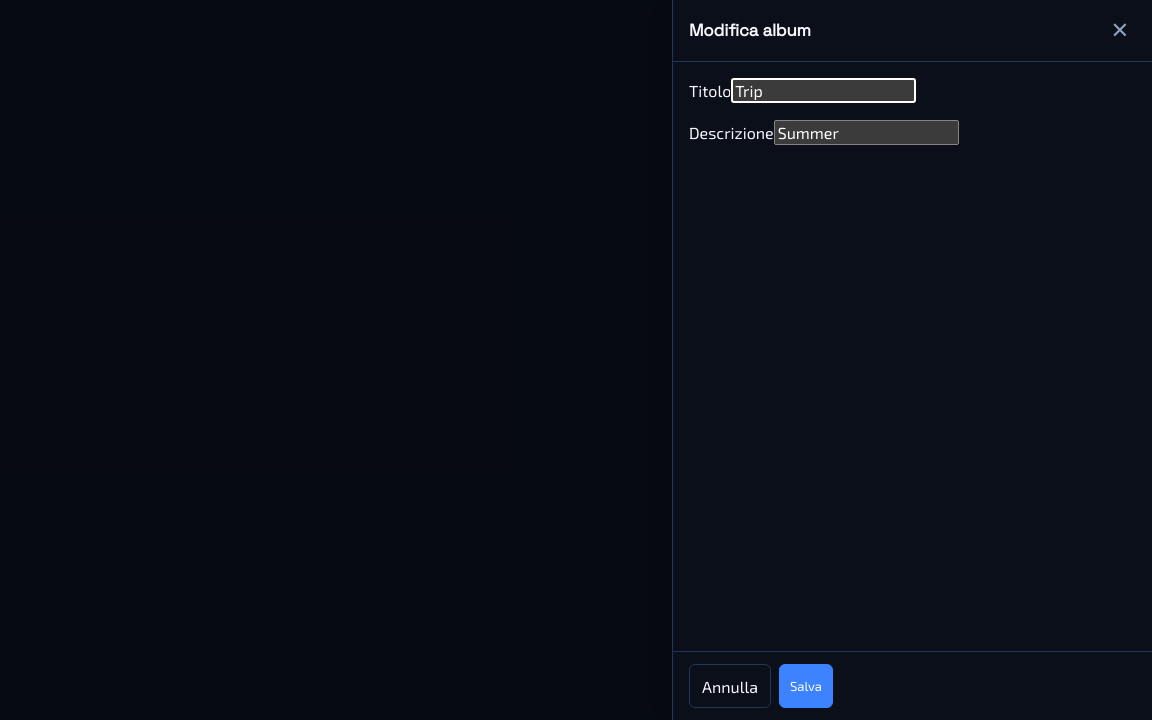
Test case: AlbumDetailsEditor › on 409 explains, shows the current values, keeps the draft, and does not resend
Replace the text in the field with test id "album-edit-name" with "My title" at (824, 90), box [731,78,916,103]
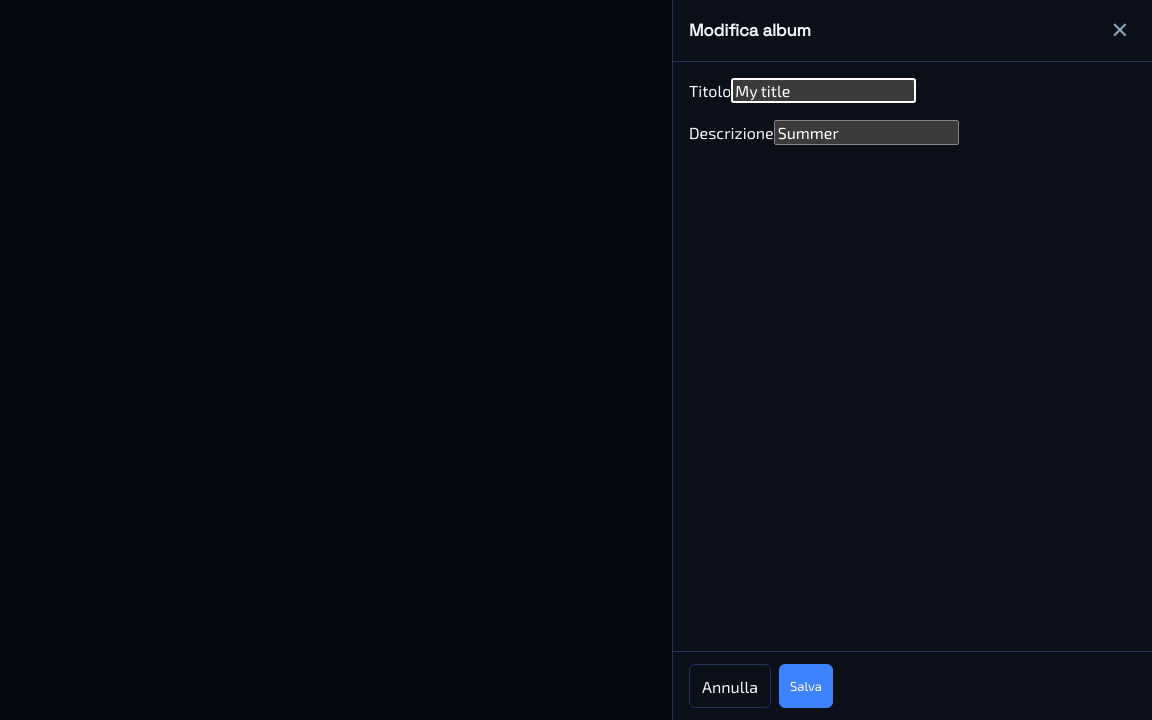
Click the button with test id "album-edit-save" at (806, 686), box [779,664,833,708]
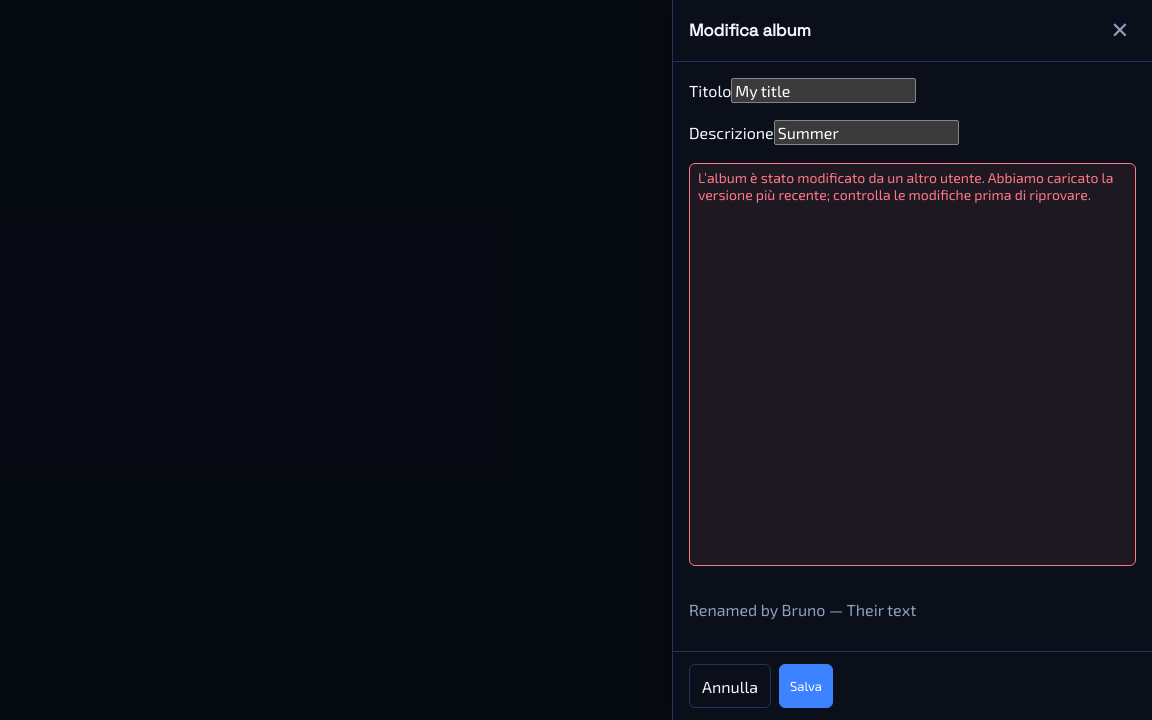
Expected: the message with test id "album-edit-error" shows "modificato da un altro utente", [698,169,1113,203]
Expected: the text with test id "album-edit-current" shows "Renamed by Bruno", [689,600,825,619]
